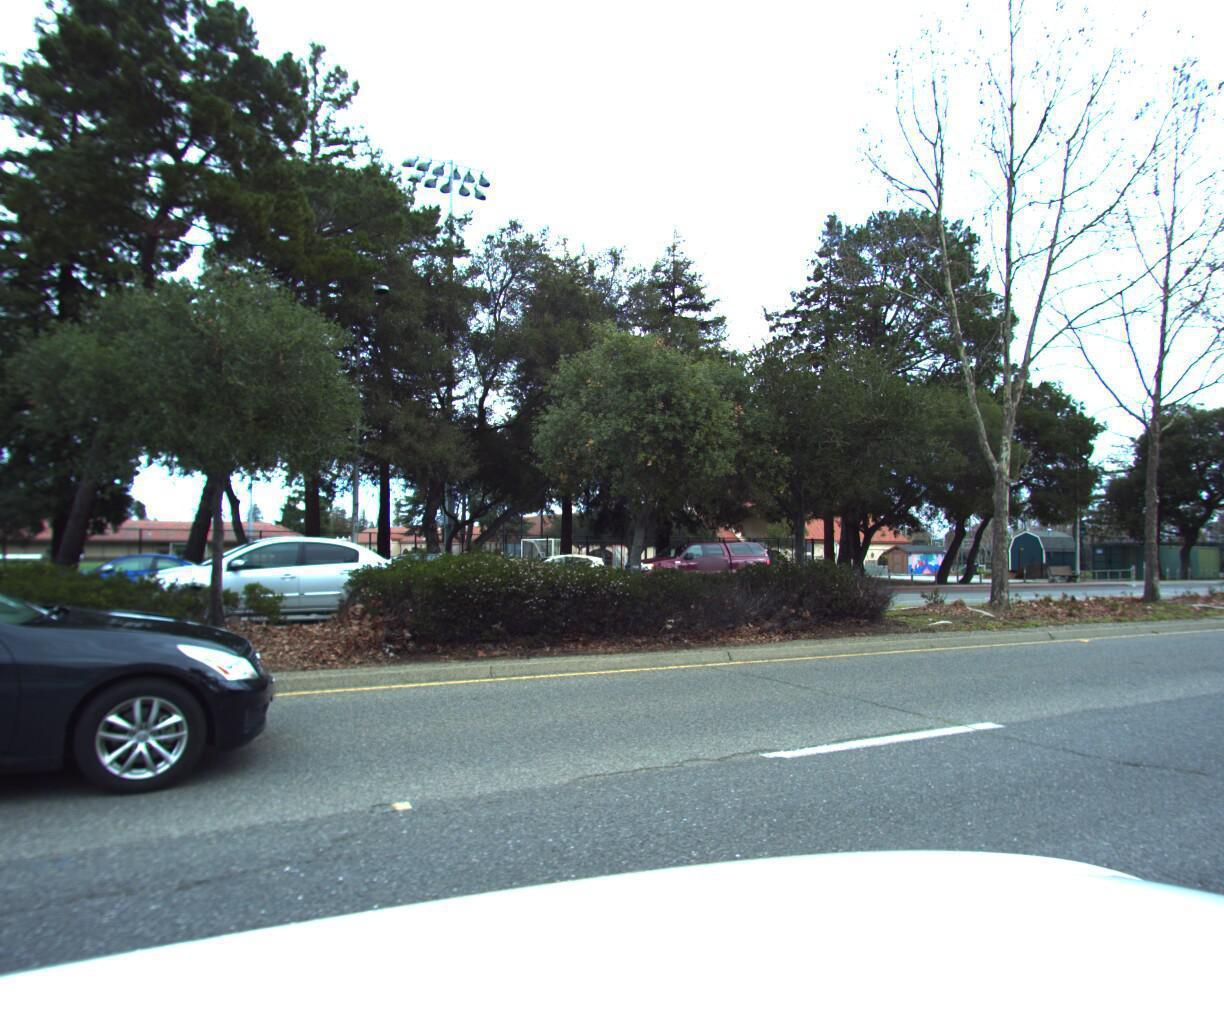car: (0, 534, 325, 939), (133, 535, 397, 633), (23, 549, 227, 614), (610, 533, 776, 595), (479, 548, 616, 597), (1214, 539, 1224, 578)
